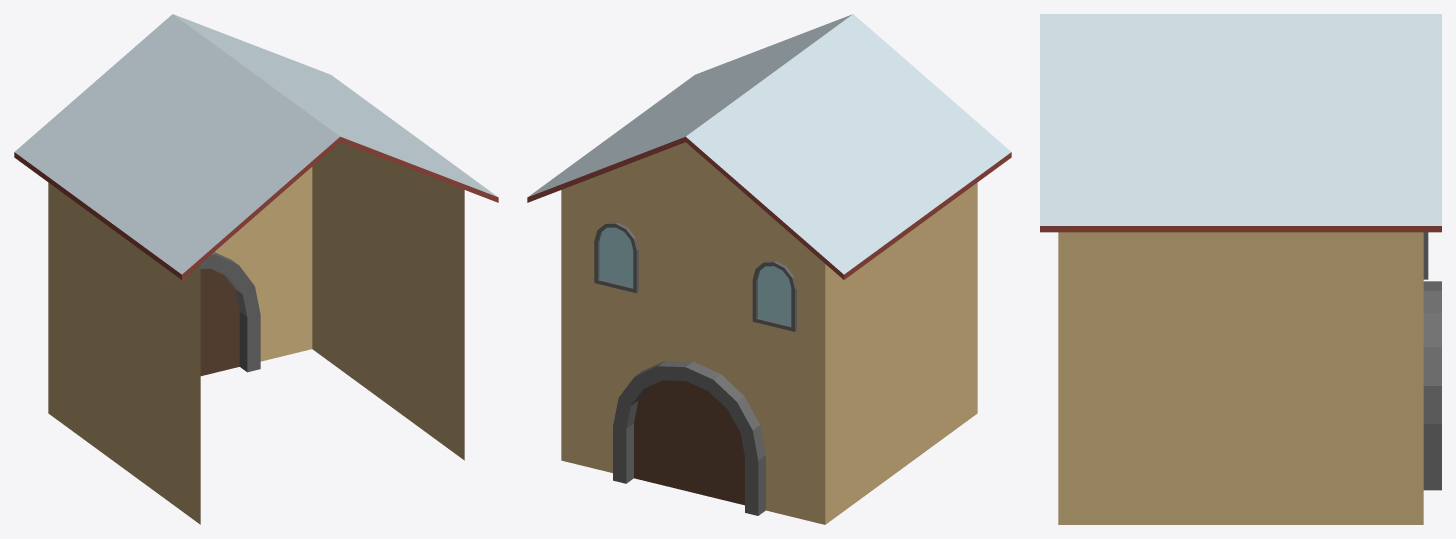
The model's file is HouseArc.fbx.
3 renders of one model, left to right at view 1: azimuth 30°, elevation 25°; view 2: azimuth 150°, elevation 25°; view 3: azimuth 270°, elevation 25°, orthographic. The views are drawn at different scales.
Parts seen in each view (by area): view 1: HouseArc; view 2: HouseArc; view 3: HouseArc.
Part boxes in pixels (x1,y1,x2,y2): HouseArc: (14, 14, 498, 524); HouseArc: (527, 14, 1011, 524); HouseArc: (1040, 14, 1441, 524).
Bounding box in the file's own units: 24 × 22 × 26.2.
